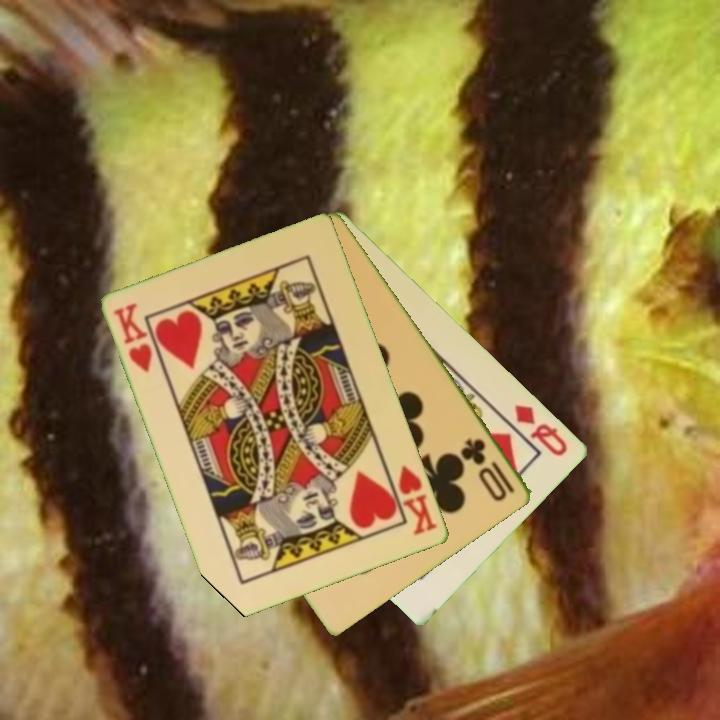10c: (458, 434, 519, 505)
Kh: (384, 461, 440, 538), (110, 299, 156, 376)
Qd: (511, 400, 571, 459)
